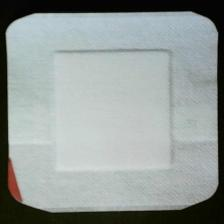Dressing: (5, 4, 218, 218)
Red_T: (2, 157, 31, 209)
